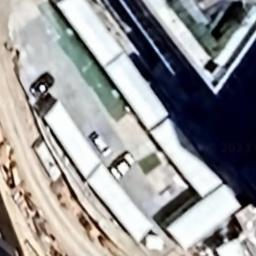sedan: (108, 148, 135, 184), (29, 67, 56, 100), (89, 128, 112, 160)
